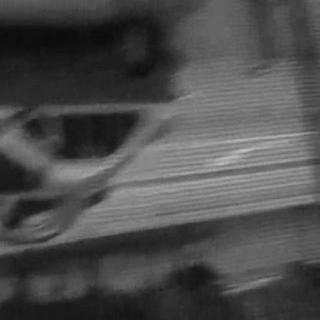other: (162, 80, 196, 114)
